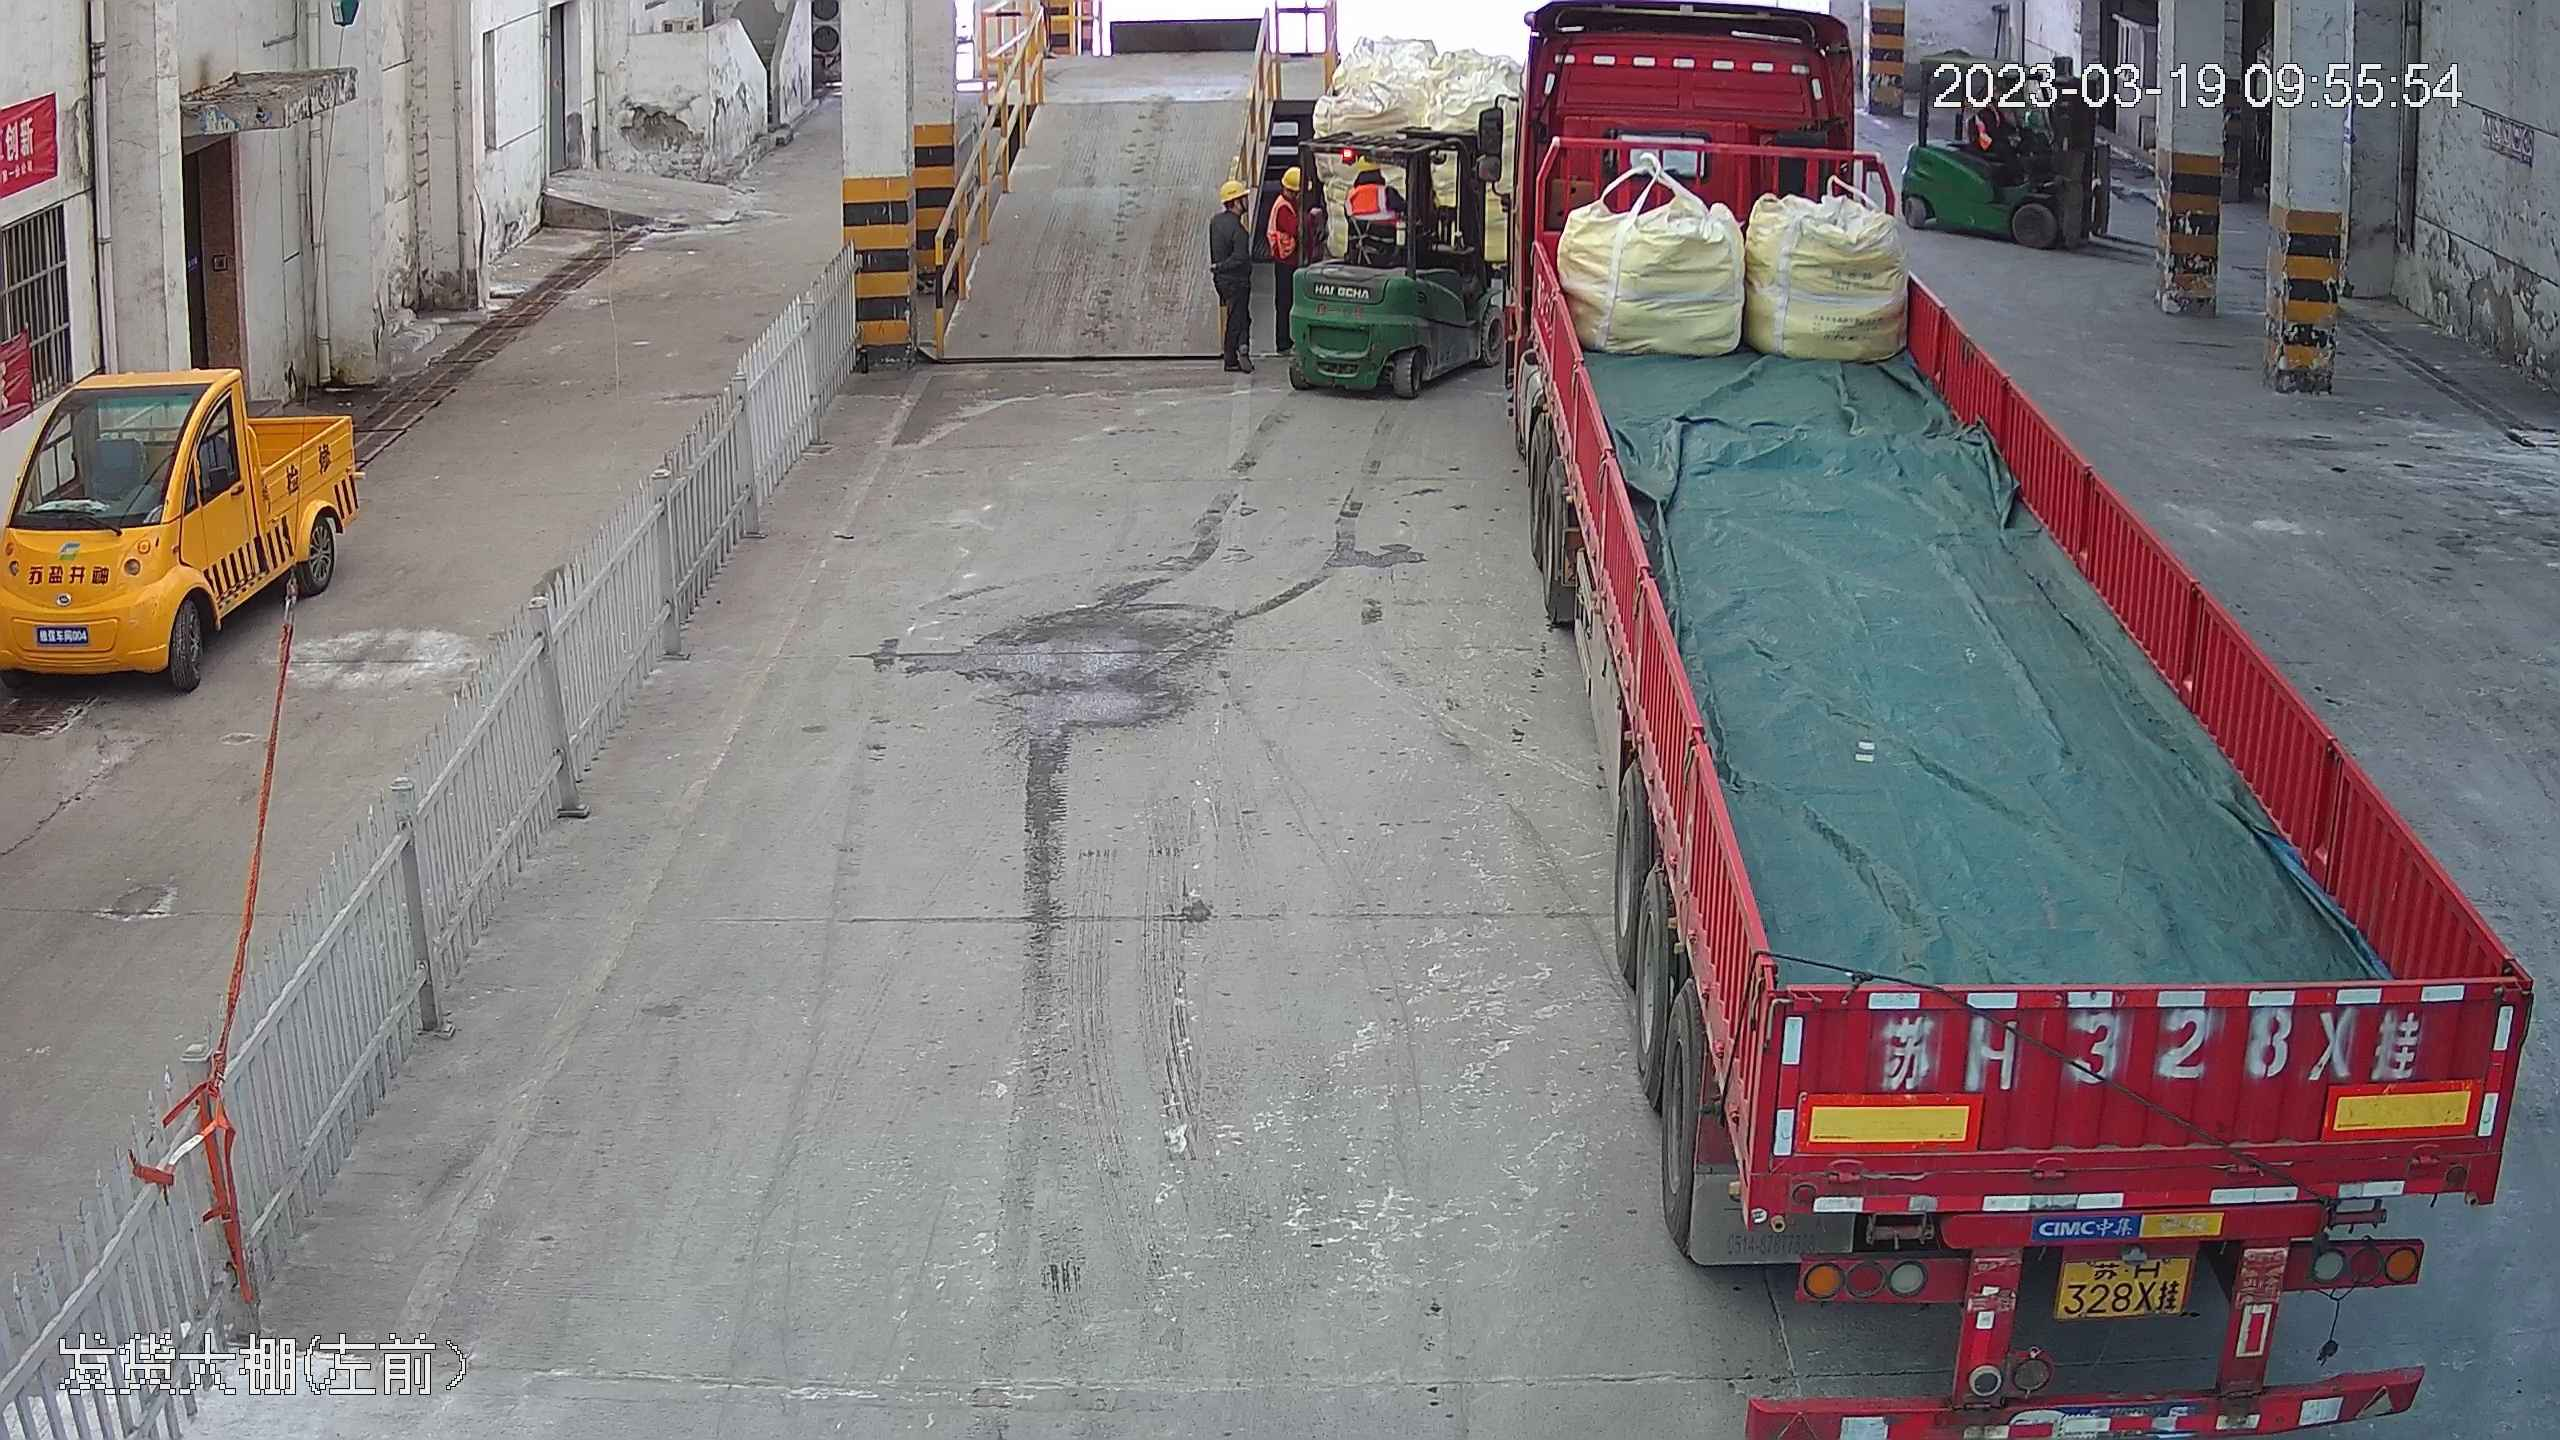head: (1208, 178, 1257, 241), (1343, 150, 1392, 209), (1267, 163, 1312, 223)
helmet: (1350, 151, 1381, 178), (1275, 164, 1307, 188), (1218, 175, 1247, 200)
people: (1207, 173, 1267, 374), (1256, 162, 1311, 330)
truck: (1496, 1, 2556, 1432)
